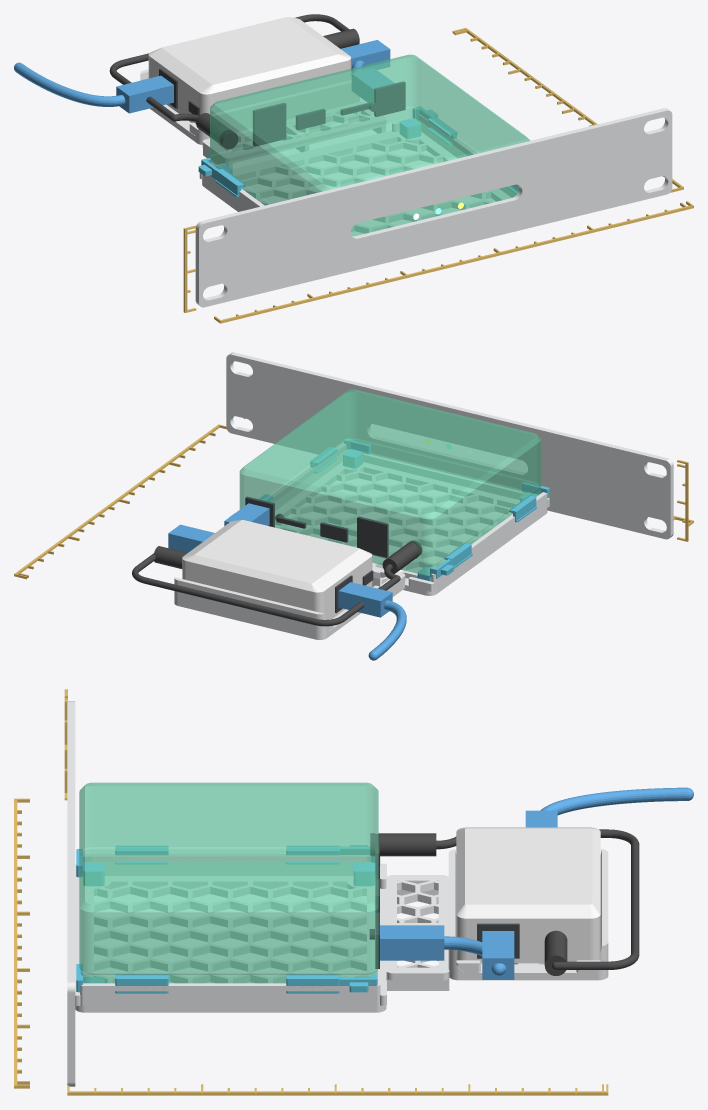
Rendered from home-assistant-green-rack-stacked_center-no_shutter.glb.
The picture shows the model from 3 angles, top to bottom: view 1: azimuth 30°, elevation 25°; view 2: azimuth 150°, elevation 25°; view 3: azimuth 270°, elevation 25°; orthographic projection. The views are drawn at different scales.
Visible parts, largest first — view 1: White rack mount, Home Assistant Green, TP-Link TL-PD30G-M2, Green tray — standard, 10 mm dimension rulers, Home Assistant Green connector faces, Incoming PoE cable, TP-Link cradle side walls, DC cable, Internal Ethernet cable, Green retention — segmented rails + rear latch, Home Assistant logo; view 2: Home Assistant Green, White rack mount, Green tray — standard, TP-Link TL-PD30G-M2, DC cable, TP-Link cradle side walls, Green retention — segmented rails + rear latch, Home Assistant Green connector faces, Incoming PoE cable, 10 mm dimension rulers, Internal Ethernet cable, TP-Link cradle floor; view 3: Home Assistant Green, Green tray — standard, TP-Link TL-PD30G-M2, White rack mount, Green retention — segmented rails + rear latch, 10 mm dimension rulers, DC cable, Internal Ethernet cable, Incoming PoE cable, TP-Link cradle side walls, TP-Link cradle floor, Home Assistant Green connector faces (+1 smaller).
Boxes of the visible parts, left/top/right/bottom form: White rack mount: left=195, top=102, right=672, bottom=307; Home Assistant Green: left=210, top=54, right=530, bottom=236; TP-Link TL-PD30G-M2: left=148, top=17, right=351, bottom=123; Green tray — standard: left=199, top=114, right=518, bottom=233; 10 mm dimension rulers: left=183, top=28, right=693, bottom=323; Home Assistant Green connector faces: left=220, top=81, right=405, bottom=149; Incoming PoE cable: left=14, top=62, right=173, bottom=113; TP-Link cradle side walls: left=140, top=69, right=359, bottom=139; DC cable: left=109, top=14, right=359, bottom=145; Internal Ethernet cable: left=341, top=40, right=393, bottom=102; Green retention — segmented rails + rear latch: left=198, top=106, right=518, bottom=197; Home Assistant logo: left=297, top=215, right=334, bottom=260; Home Assistant Green: left=239, top=389, right=541, bottom=575; White rack mount: left=226, top=352, right=673, bottom=596; Green tray — standard: left=269, top=443, right=549, bottom=595; TP-Link TL-PD30G-M2: left=182, top=520, right=372, bottom=619; DC cable: left=132, top=542, right=419, bottom=626; TP-Link cradle side walls: left=174, top=569, right=380, bottom=634; Green retention — segmented rails + rear latch: left=229, top=438, right=549, bottom=581; Home Assistant Green connector faces: left=245, top=496, right=422, bottom=557; Incoming PoE cable: left=338, top=582, right=406, bottom=660; 10 mm dimension rulers: left=14, top=418, right=693, bottom=579; Internal Ethernet cable: left=168, top=503, right=269, bottom=552; TP-Link cradle floor: left=174, top=599, right=360, bottom=639; Home Assistant Green: left=79, top=782, right=378, bottom=983; Green tray — standard: left=75, top=854, right=386, bottom=1012; TP-Link TL-PD30G-M2: left=456, top=827, right=600, bottom=963; White rack mount: left=67, top=701, right=449, bottom=1086; Green retention — segmented rails + rear latch: left=76, top=845, right=377, bottom=993; 10 mm dimension rulers: left=14, top=689, right=608, bottom=1095; DC cable: left=378, top=829, right=639, bottom=975; Internal Ethernet cable: left=380, top=925, right=514, bottom=979; Incoming PoE cable: left=525, top=787, right=693, bottom=827; TP-Link cradle side walls: left=448, top=849, right=608, bottom=973; TP-Link cradle floor: left=449, top=963, right=608, bottom=980; Home Assistant Green connector faces: left=369, top=833, right=379, bottom=968.
Size of what is drawn, in the model's own units: 268 by 43 by 254.
